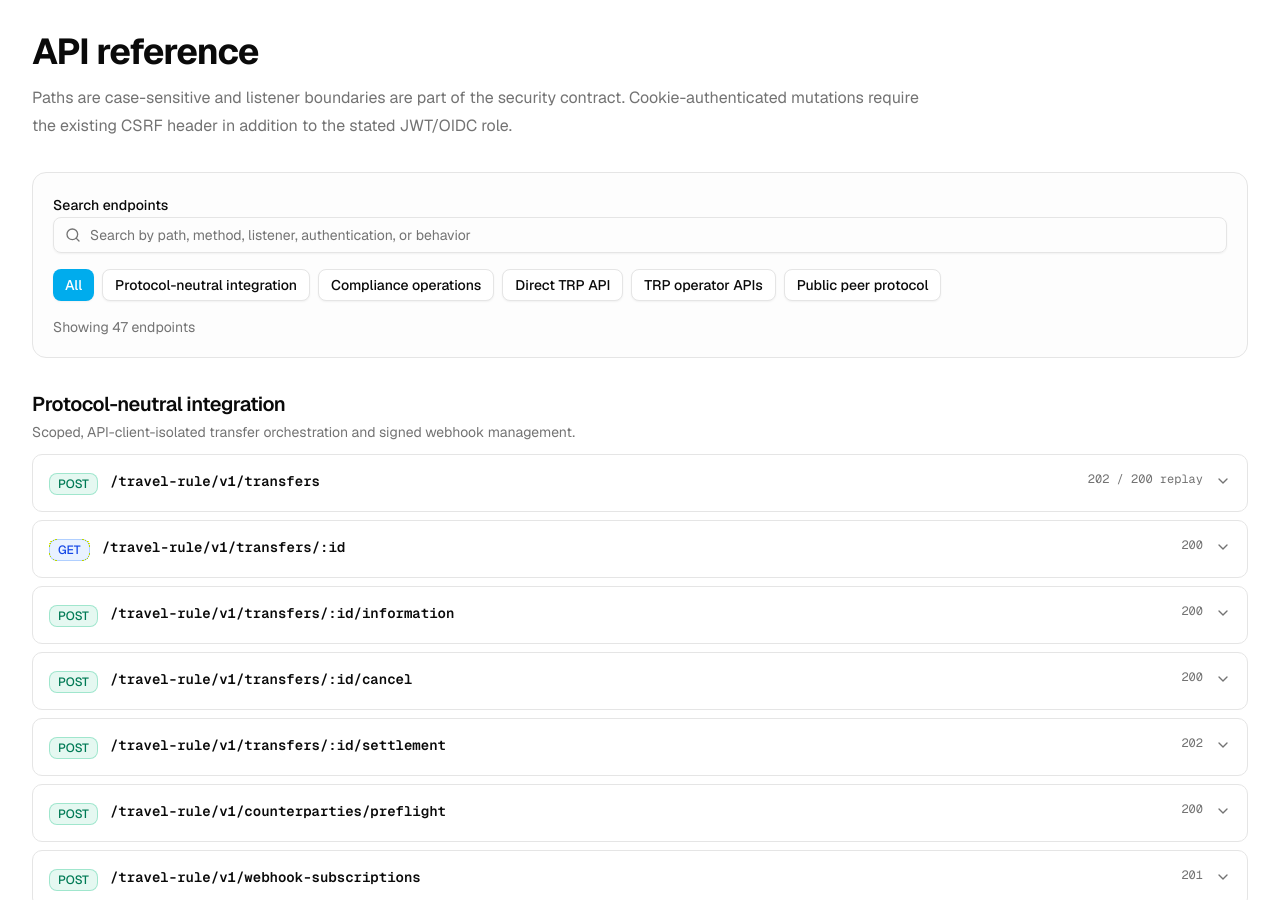
Test case: filters by endpoint group and exposes endpoint details on demand
Click the button "Protocol-neutral integration": (206, 285) [102,269,310,301]
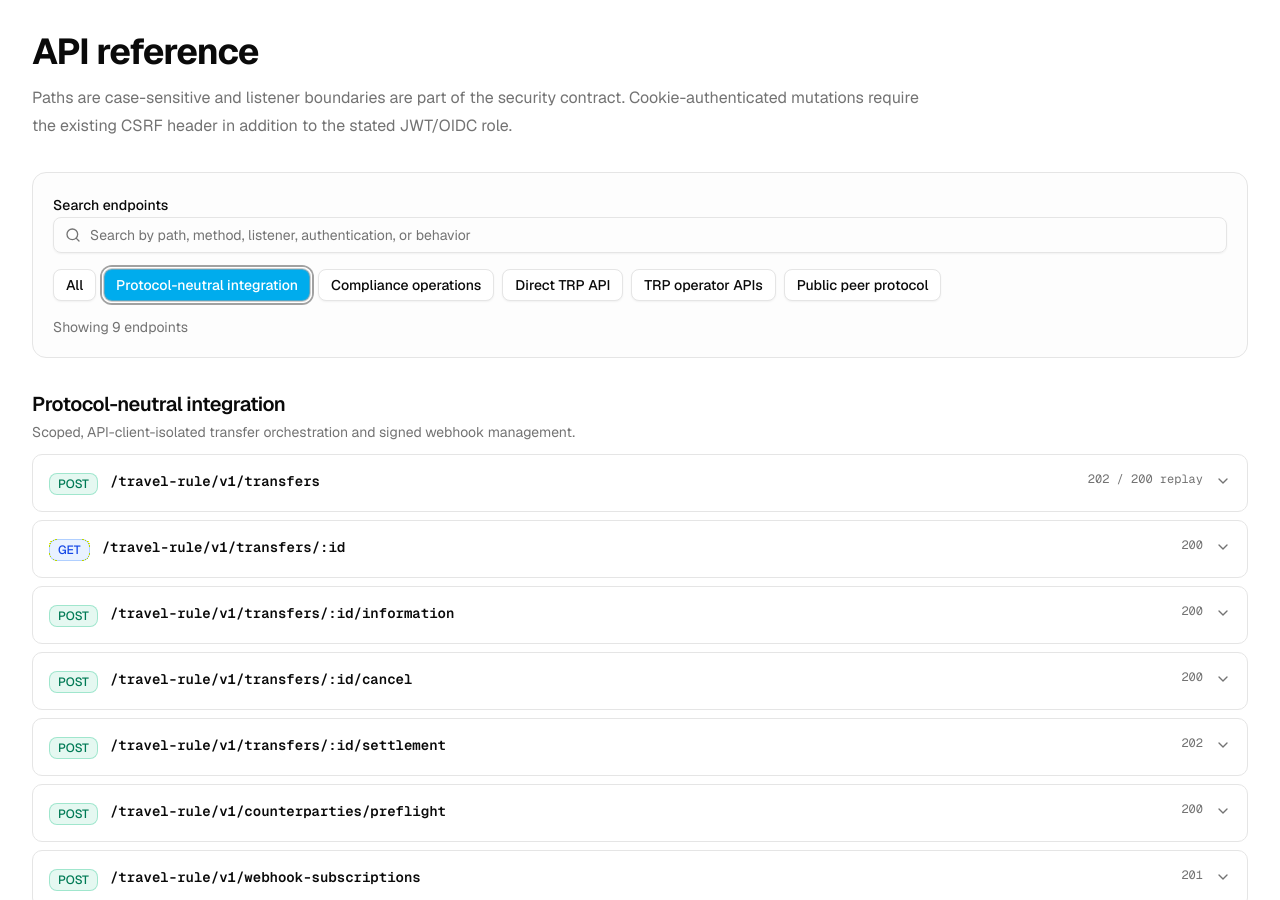
expect the message shows "9 endpoints": met, box [53,318,188,336]
Click the text "/travel-rule/v1/transfers": (215, 481) [110,472,320,490]
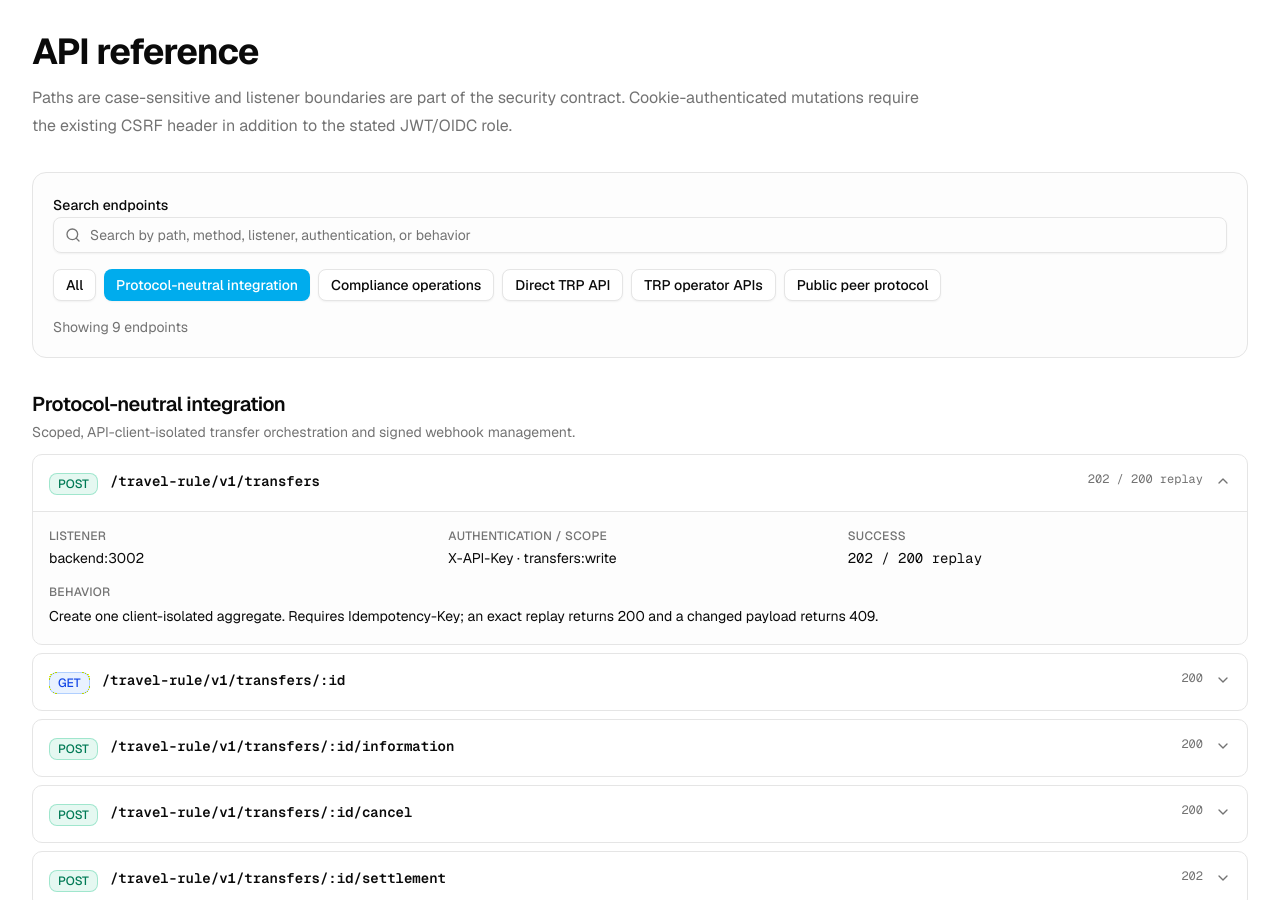
expect the text "X-API-Key · transfers:write" is shown: met, box [448,549,617,567]
expect the text "backend:3002" is shown: met, box [49,549,144,567]
Click the button "All": (75, 285) [53,269,96,301]
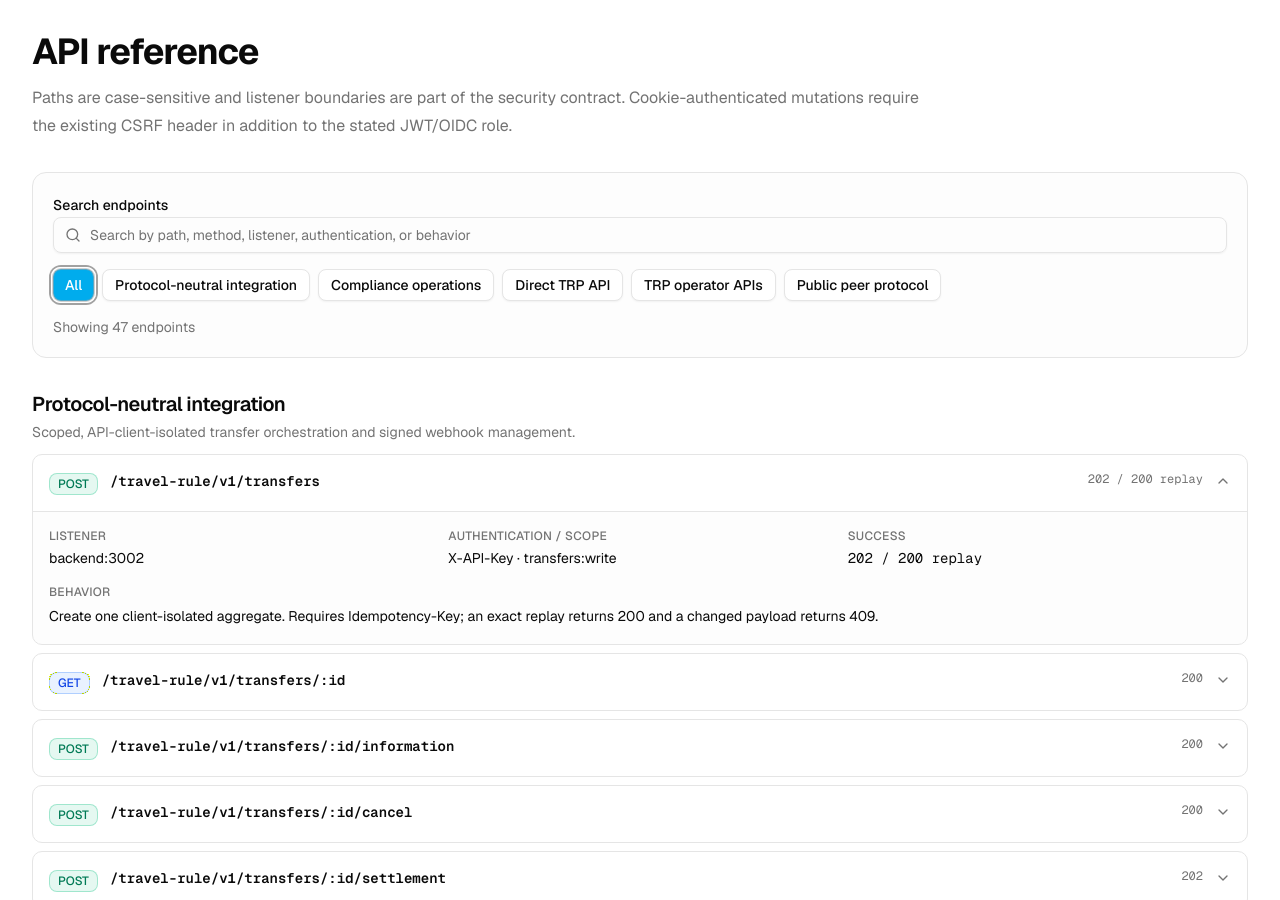
expect the message shows "47 endpoints": met, box [53,318,195,336]
